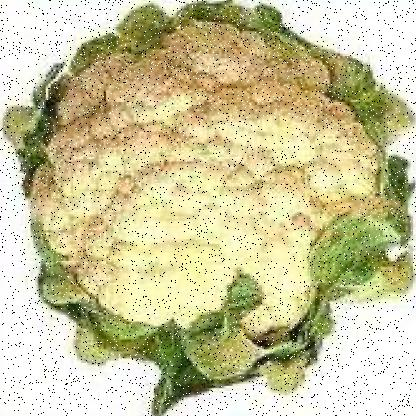cauliflower: (45, 29, 368, 333)
